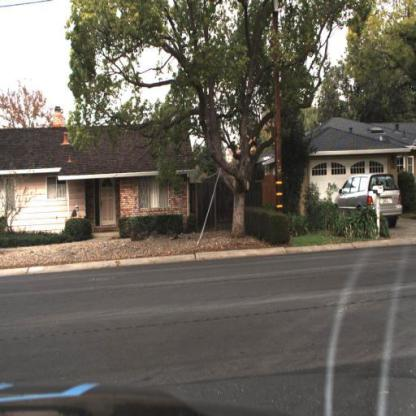car: (332, 174, 404, 228)
